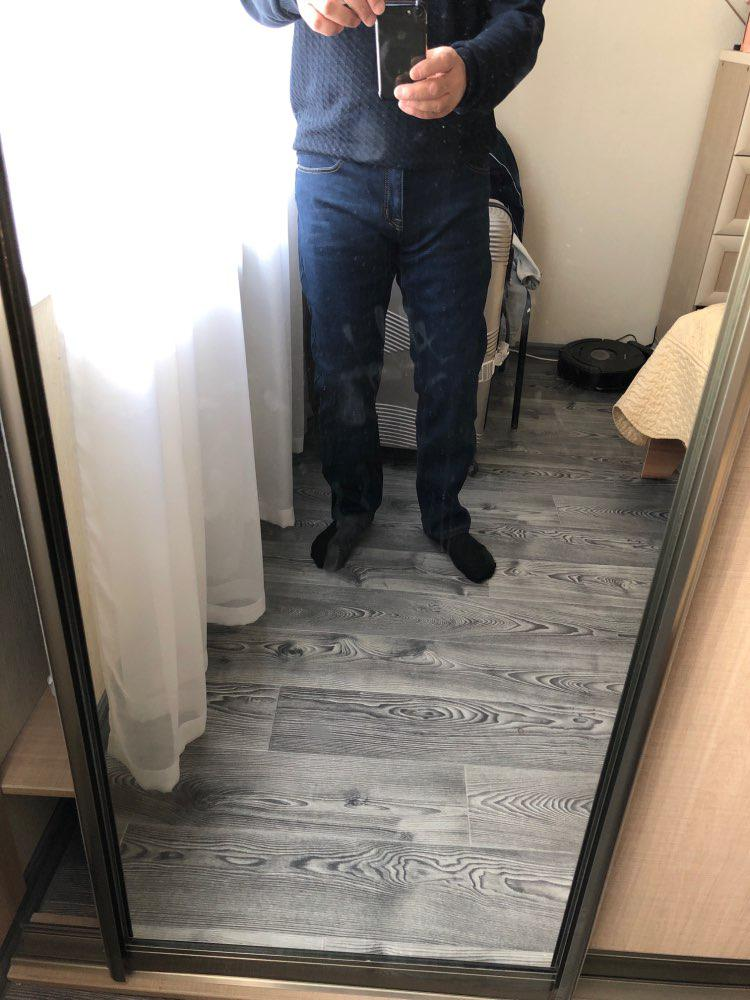jeans: (282, 134, 496, 534)
